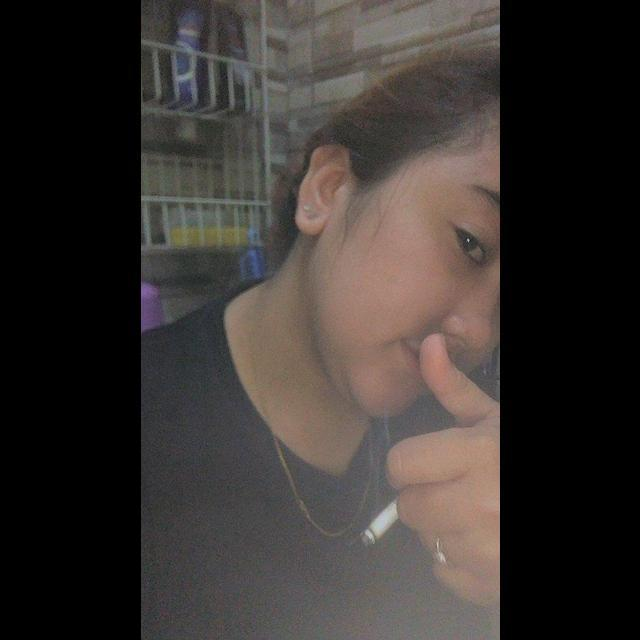rokok: (358, 491, 402, 547)
